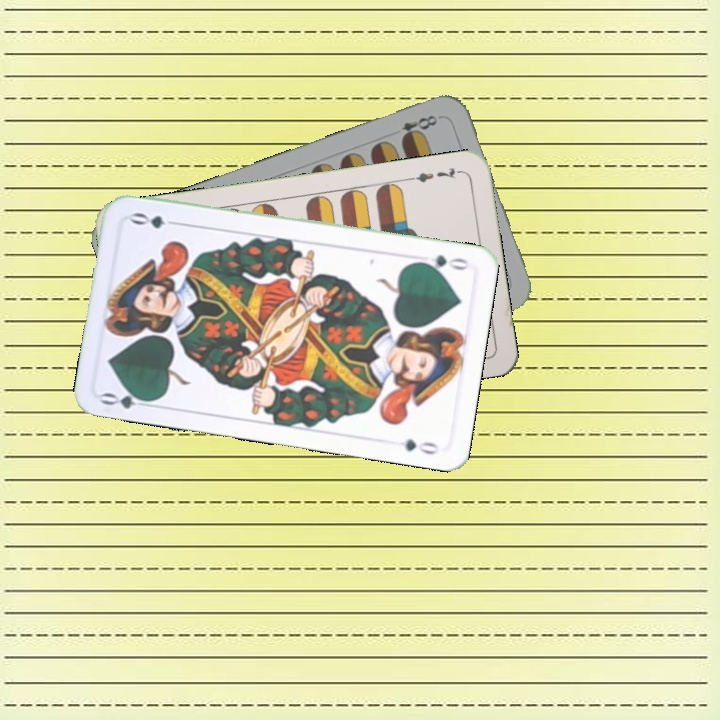E7: (406, 163, 465, 186)
E8: (396, 110, 444, 144)
GO: (97, 384, 157, 412), (413, 250, 471, 274)
